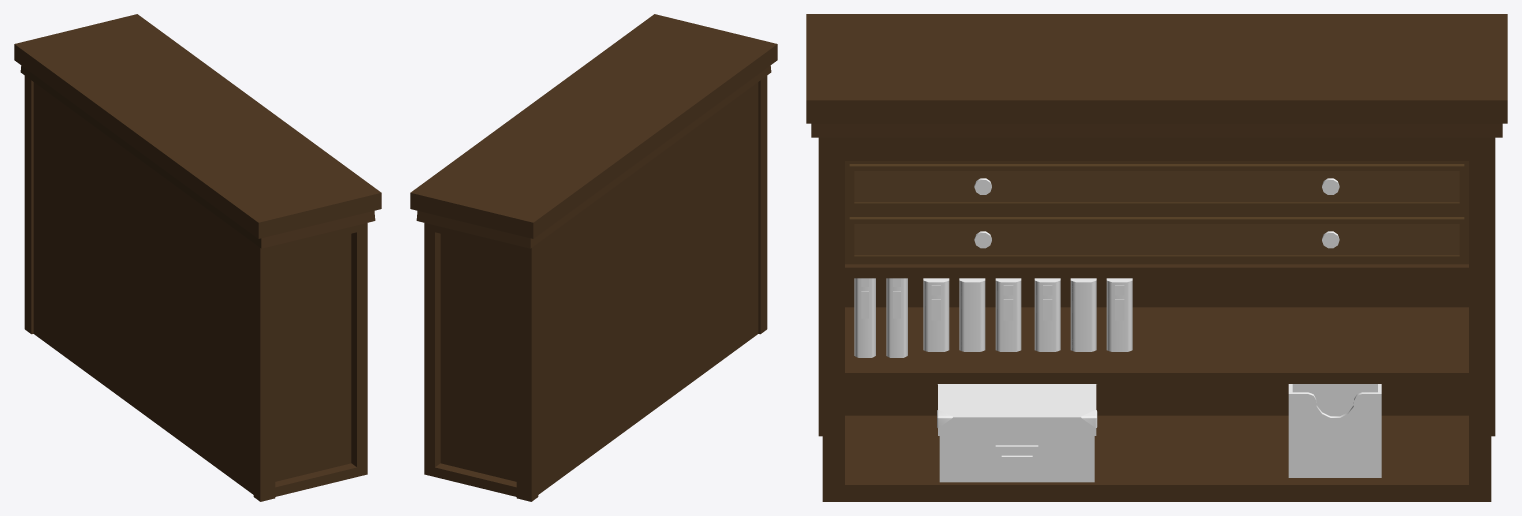
File: SM_Prop_Cupboard_02.obj
3 renders of one model, left to right at view 1: azimuth 30°, elevation 25°; view 2: azimuth 150°, elevation 25°; view 3: azimuth 270°, elevation 25°, orthographic. The views are drawn at different scales.
Visible parts, largest first — view 1: SM_Prop_Cupboard_02_Mat_SwatchOverlay_Farm_01_WoodRotated_Inst; view 2: SM_Prop_Cupboard_02_Mat_SwatchOverlay_Farm_01_WoodRotated_Inst; view 3: SM_Prop_Cupboard_02_Mat_SwatchOverlay_Farm_01_WoodRotated_Inst, SM_Prop_Cupboard_02_MI_ColorPalette.
Boxes of the visible parts, bbox=[...] form: SM_Prop_Cupboard_02_Mat_SwatchOverlay_Farm_01_WoodRotated_Inst: bbox=[14, 14, 381, 501]; SM_Prop_Cupboard_02_Mat_SwatchOverlay_Farm_01_WoodRotated_Inst: bbox=[410, 14, 777, 501]; SM_Prop_Cupboard_02_Mat_SwatchOverlay_Farm_01_WoodRotated_Inst: bbox=[806, 14, 1507, 501]; SM_Prop_Cupboard_02_MI_ColorPalette: bbox=[854, 178, 1381, 482].
Size of the model in its own units: 0.5367 by 1.18 by 1.84.
Materials: 2 (1 with a texture image).
